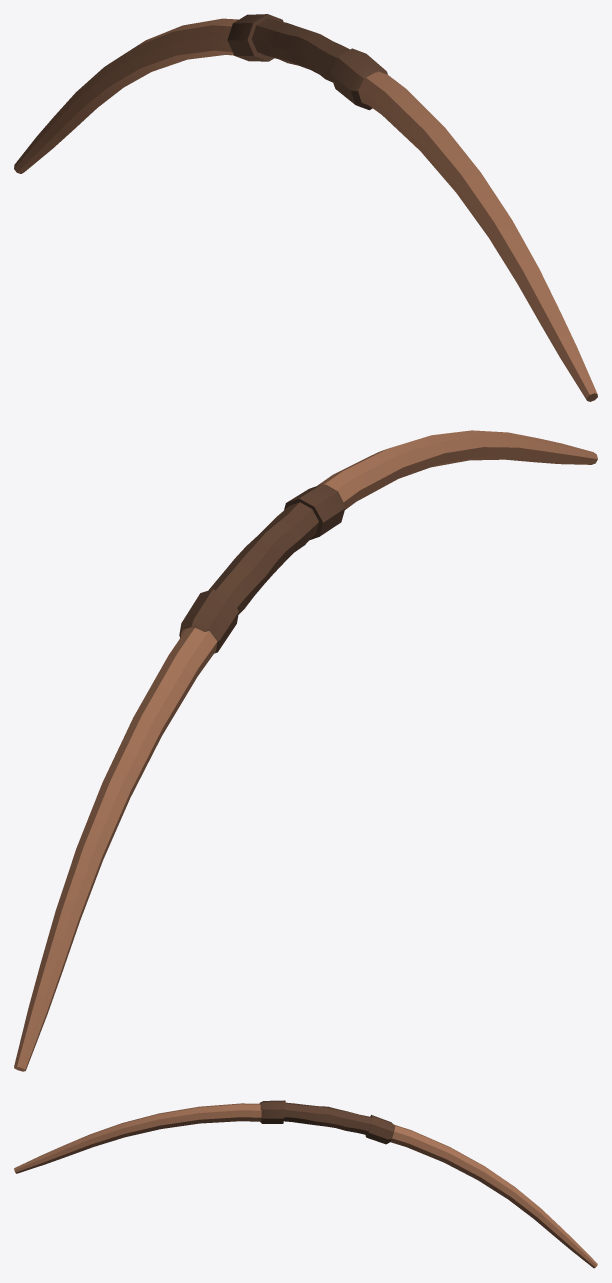
Rendered from arrow.fbx.
3 views of the same model, one above another, from view 1: azimuth 30°, elevation 25°; view 2: azimuth 150°, elevation 25°; view 3: azimuth 270°, elevation 25° (orthographic). The views are drawn at different scales.
Parts seen in each view (by area): view 1: Куб.002; view 2: Куб.002; view 3: Куб.002.
Boxes of the visible parts, x1=… form: Куб.002: x1=14, y1=14, x2=597, y2=401; Куб.002: x1=14, y1=430, x2=597, y2=1071; Куб.002: x1=14, y1=1100, x2=597, y2=1268.
Bounding box in the file's own units: 11.22 × 70.09 × 214.
